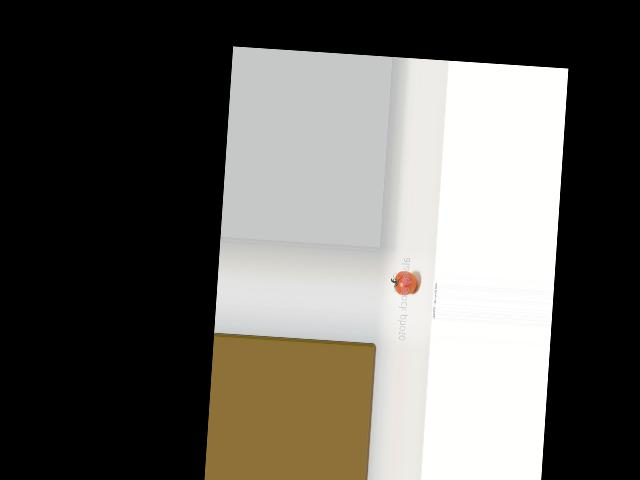tomato: (393, 270, 417, 296)
